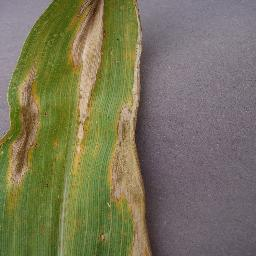Corn_Blight: (108, 0, 153, 256), (69, 0, 109, 159), (2, 61, 46, 183), (65, 159, 86, 220), (2, 185, 26, 213), (95, 224, 107, 248)
